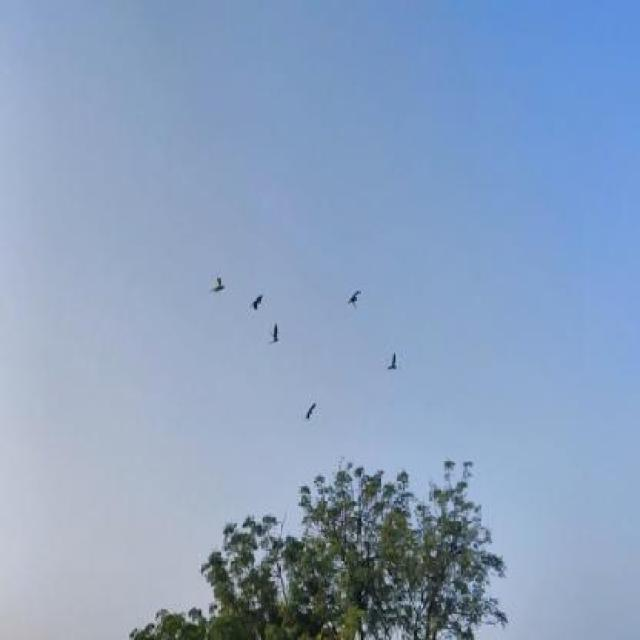bird: (342, 281, 364, 317), (302, 398, 322, 429), (247, 289, 267, 317), (264, 322, 282, 352), (205, 277, 230, 298), (383, 349, 399, 377)
